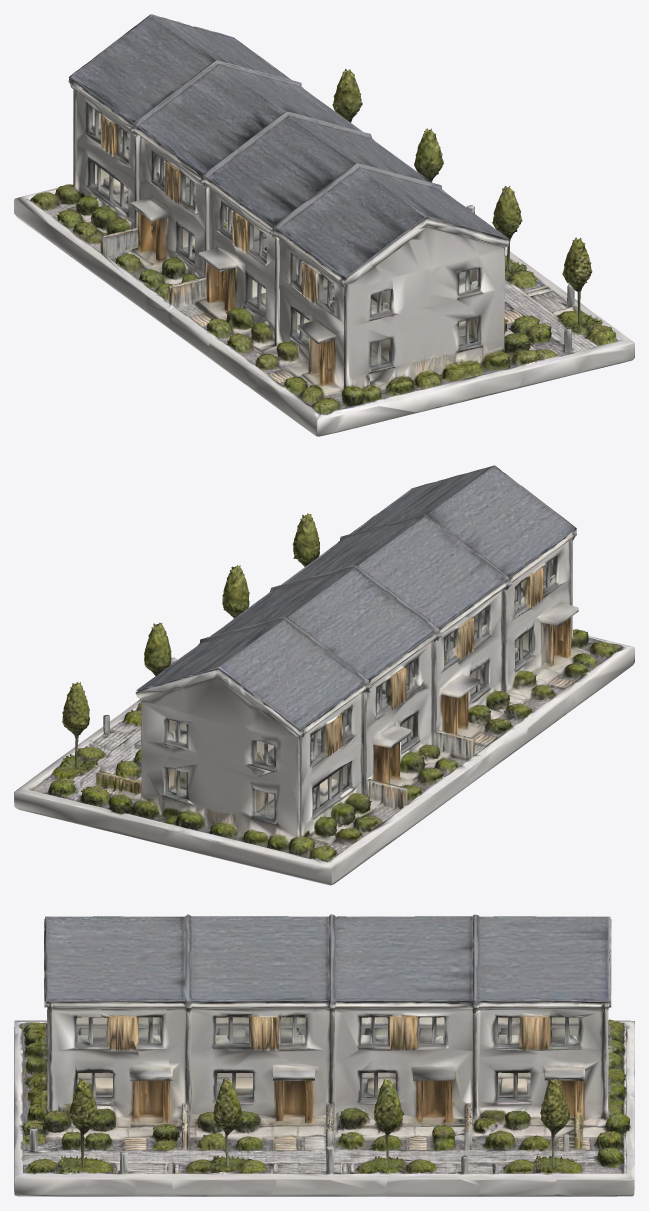
The model's file is b4-homes.glb.
3 renders of one model, top to bottom at view 1: azimuth 30°, elevation 25°; view 2: azimuth 150°, elevation 25°; view 3: azimuth 270°, elevation 25°, orthographic. The views are drawn at different scales.
Visible parts, largest first — view 1: tripo_node_fc54d9a9-b977-4b4f-b814-a057f339c2e1; view 2: tripo_node_fc54d9a9-b977-4b4f-b814-a057f339c2e1; view 3: tripo_node_fc54d9a9-b977-4b4f-b814-a057f339c2e1.
Boxes of the visible parts, left/top/right/bottom form: tripo_node_fc54d9a9-b977-4b4f-b814-a057f339c2e1: left=14, top=14, right=634, bottom=436; tripo_node_fc54d9a9-b977-4b4f-b814-a057f339c2e1: left=14, top=465, right=634, bottom=885; tripo_node_fc54d9a9-b977-4b4f-b814-a057f339c2e1: left=14, top=914, right=634, bottom=1196.
Size of the model in its own units: 0.5487 by 0.3 by 0.9058.
Materials: 1 (1 with a texture image).
